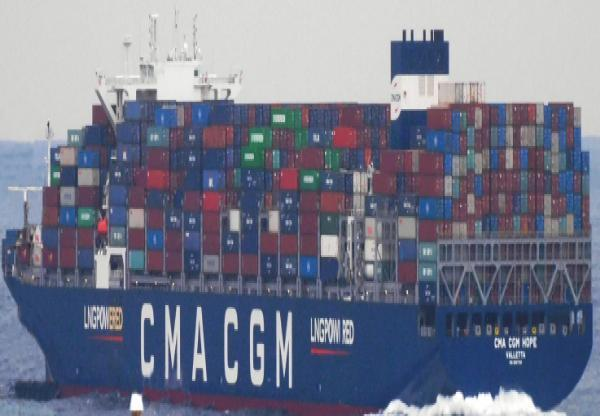Container Ship: (1, 7, 594, 414)
